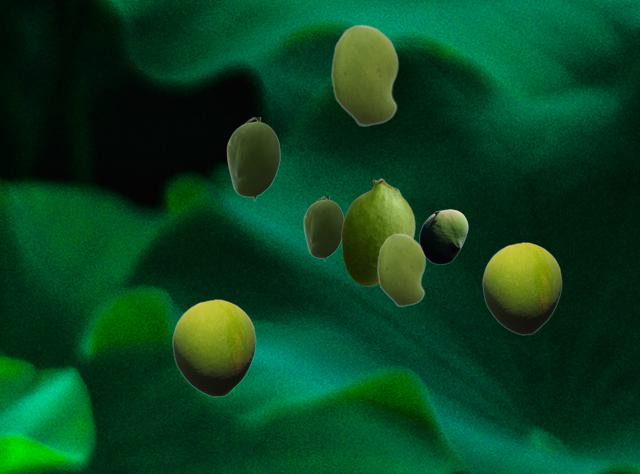green_mango: (172, 299, 255, 396), (341, 178, 414, 285), (482, 242, 561, 334), (331, 24, 398, 126), (226, 117, 279, 200), (377, 233, 425, 306), (419, 209, 467, 263), (303, 196, 343, 260)
